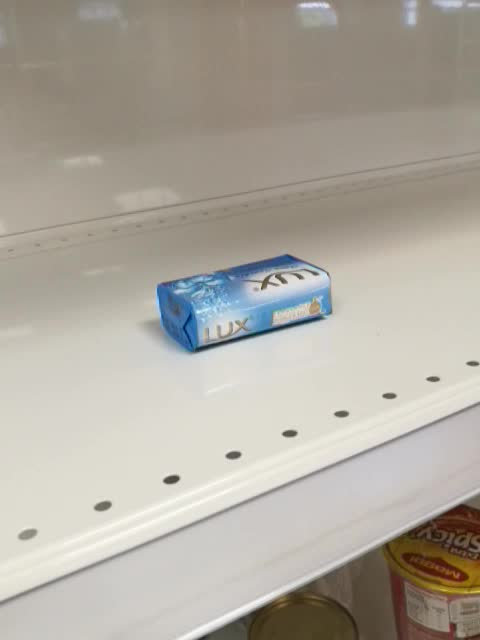soap: (156, 252, 335, 354)
